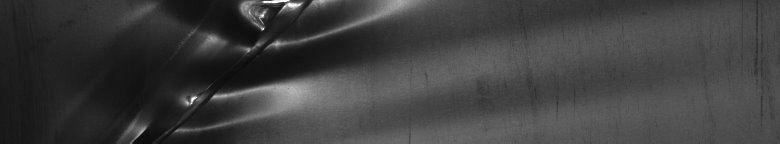ke: (123, 4, 380, 136)
